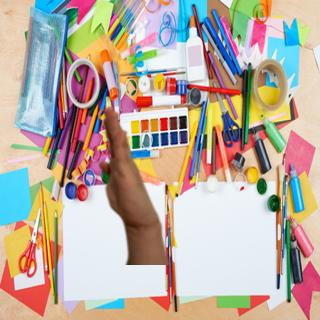RIGHT: (96, 104, 162, 229)
